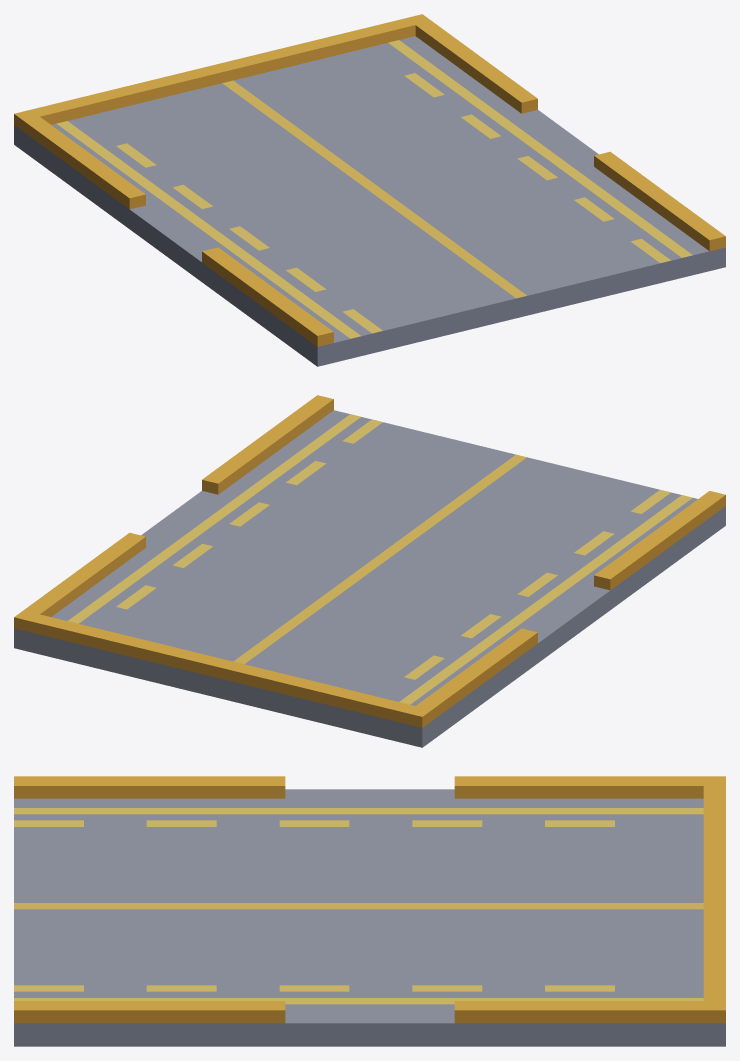
Rendered from squidgame_props_road4.fbx.
3 views of the same model, one above another, from view 1: azimuth 30°, elevation 25°; view 2: azimuth 150°, elevation 25°; view 3: azimuth 270°, elevation 25° (orthographic). The views are drawn at different scales.
Parts seen in each view (by area): view 1: squidgame_props_road4; view 2: squidgame_props_road4; view 3: squidgame_props_road4.
Boxes of the visible parts, x1,y1,x2,y2 form: squidgame_props_road4: (14,14,725,366); squidgame_props_road4: (14,395,725,747); squidgame_props_road4: (14,776,725,1046).
Bounding box in the file's own units: 6.22 × 0.4497 × 8.01.
